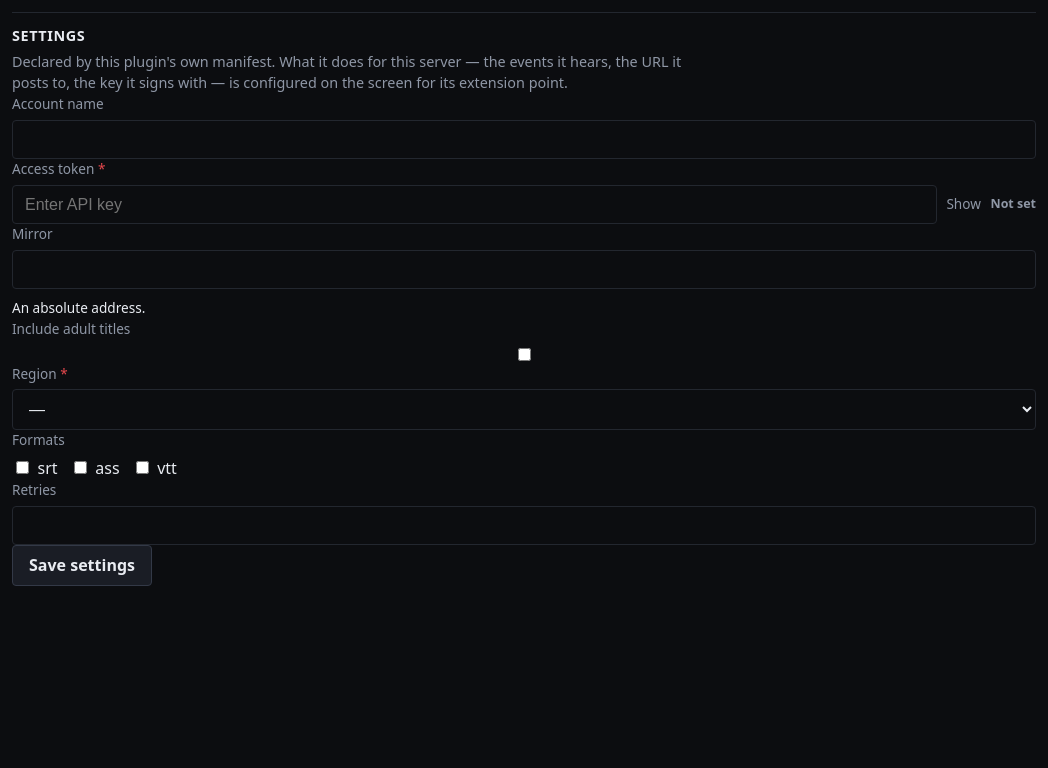
a plugin's manifest-declared settings form › hands the whole new list up after a save, and forgets the drafts
Click the button with test id "plugin-settings-save-example-source".
click(82, 565)  # box [12,545,152,586]
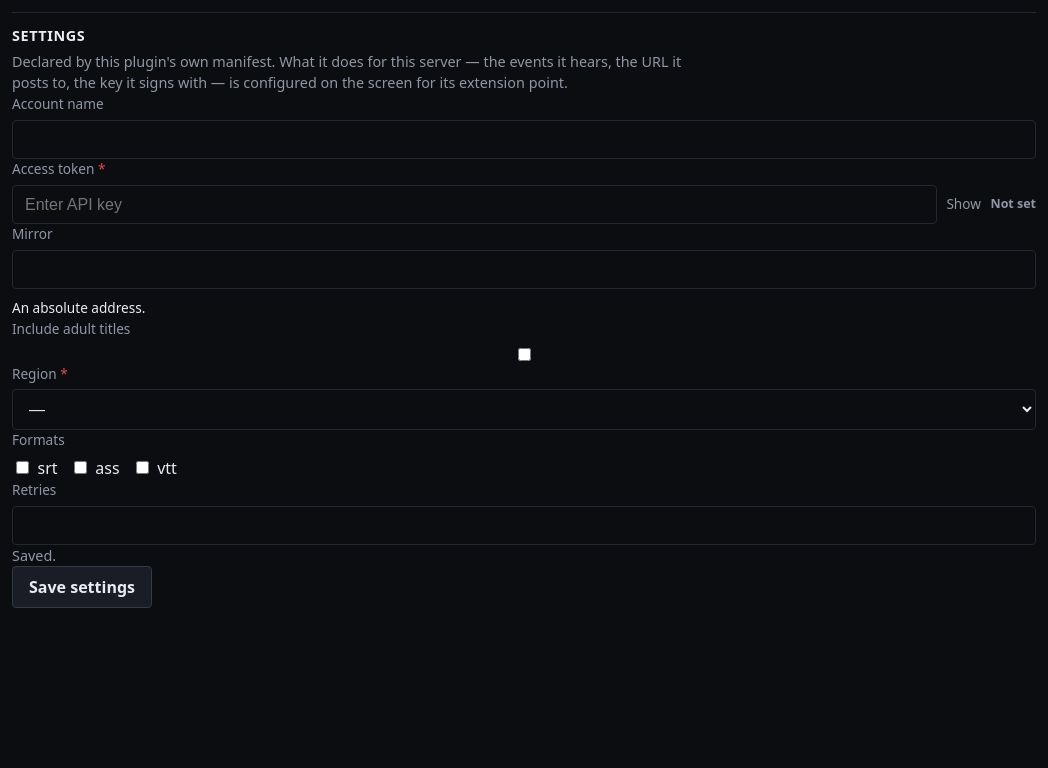
Expected: the text with test id "plugin-settings-notice-example-source" reads "Saved.", [12,546,56,565]
